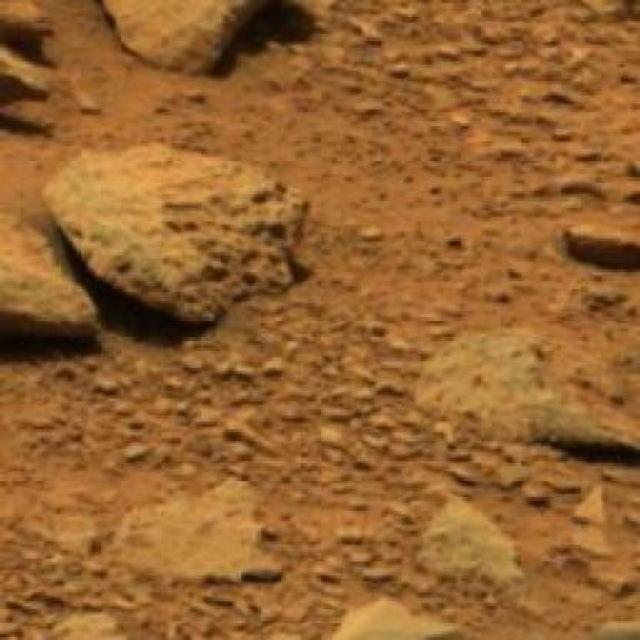rock: (40, 133, 318, 324), (0, 0, 317, 77), (0, 166, 108, 348), (325, 584, 483, 638), (0, 0, 49, 125), (0, 0, 52, 47)
